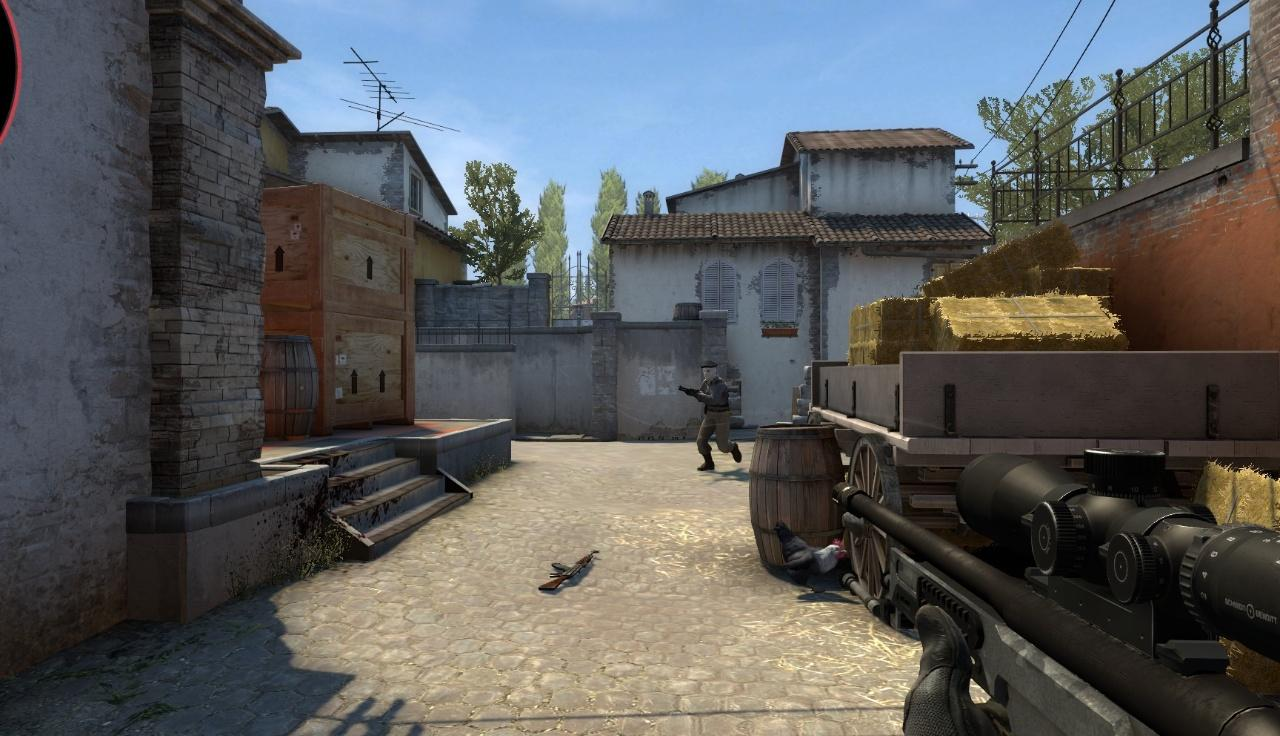sniper: (824, 434, 1280, 731)
tt: (693, 361, 743, 472)
tthead: (701, 361, 717, 381)
